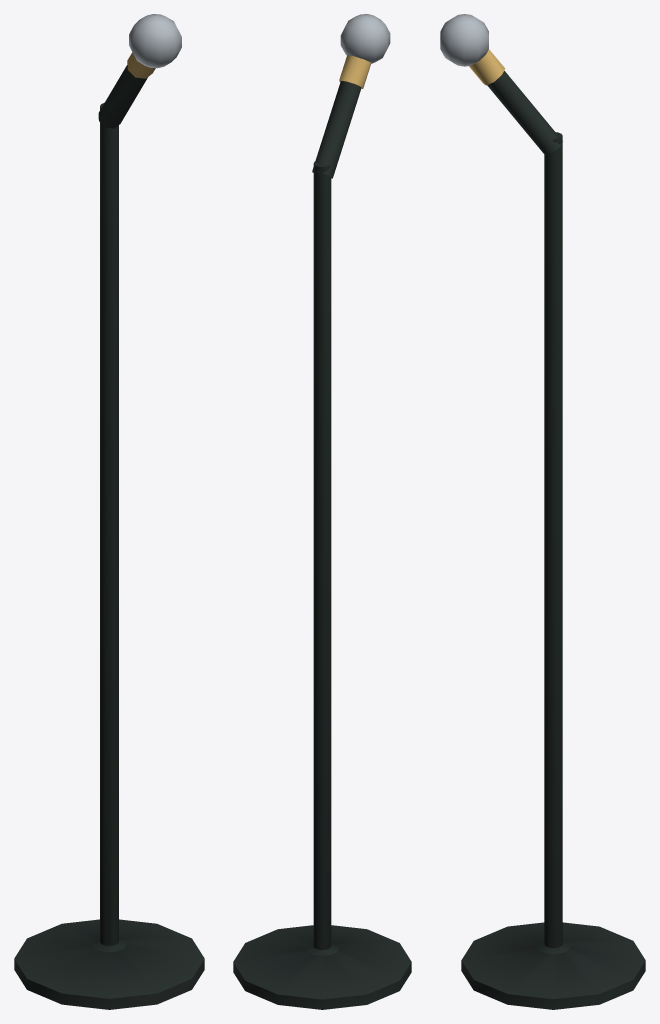
File: micro.glb
3 views of the same model, side by side, from view 1: azimuth 30°, elevation 25°; view 2: azimuth 150°, elevation 25°; view 3: azimuth 270°, elevation 25° (orthographic). The views are drawn at different scales.
Visible parts, largest first — view 1: micro; view 2: micro; view 3: micro.
Part boxes in pixels (left/top/right/bottom): micro: left=14, top=14, right=204, bottom=1009; micro: left=233, top=14, right=411, bottom=1009; micro: left=440, top=14, right=645, bottom=1009.
Size of the model in its own units: 0.28 by 1.6 by 0.3121.
